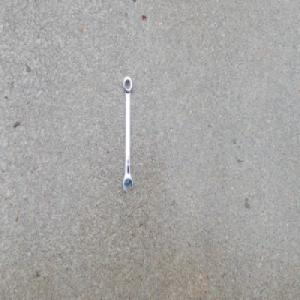Wrench: (121, 74, 133, 193)
